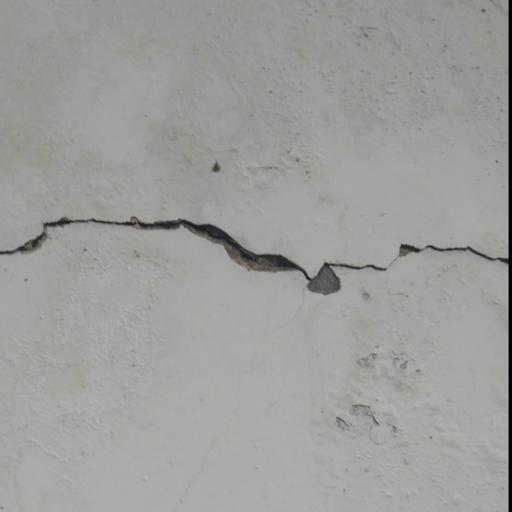major_crack: (0, 199, 512, 308)
